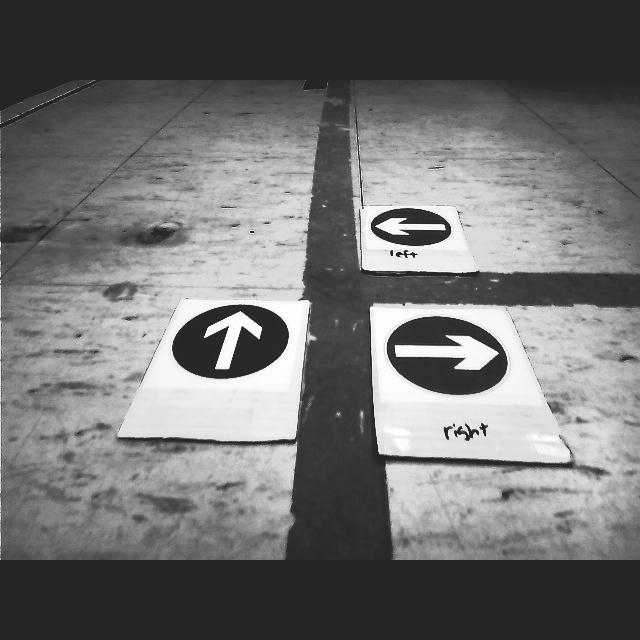GO FORWARD: (173, 304, 289, 378)
TURN LEFT: (372, 208, 451, 244)
TURN RIGHT: (386, 317, 509, 395)
